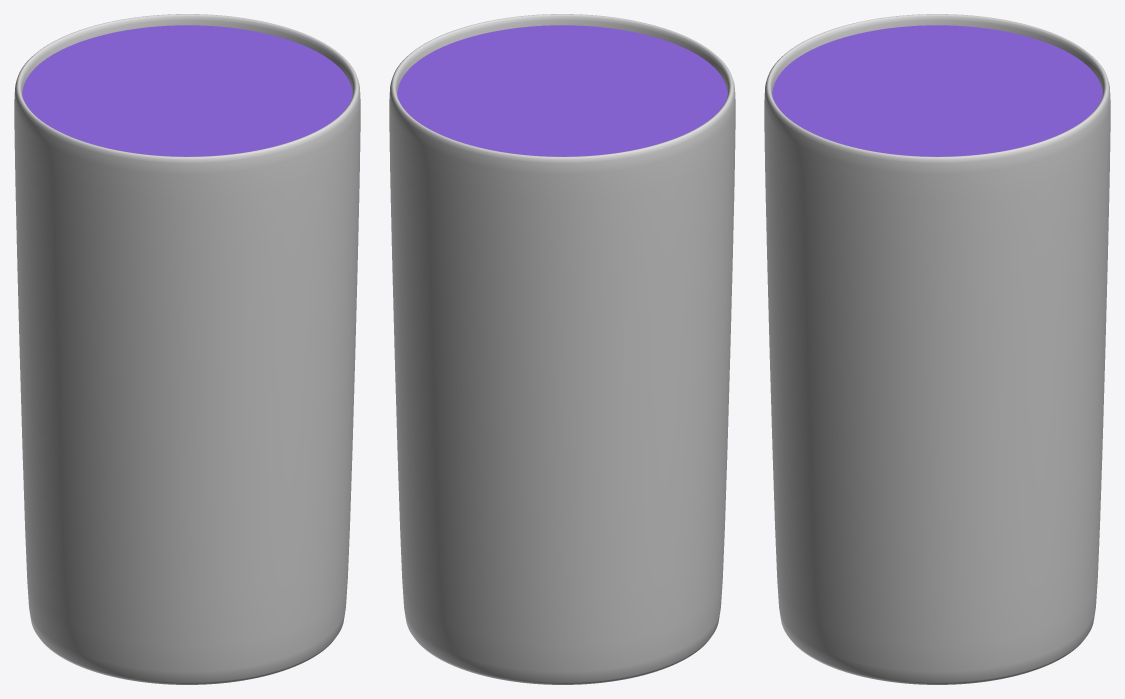
The model's file is Bebida_morada.fbx.
3 views of the same model, side by side, from view 1: azimuth 30°, elevation 25°; view 2: azimuth 150°, elevation 25°; view 3: azimuth 270°, elevation 25° (orthographic).
Visible parts, largest first — view 1: vaso, Círculo; view 2: vaso, Círculo; view 3: vaso, Círculo.
Boxes of the visible parts, x1=… form: vaso: x1=14, y1=14, x2=360, y2=684; Círculo: x1=22, y1=25, x2=352, y2=156; vaso: x1=389, y1=14, x2=735, y2=684; Círculo: x1=397, y1=25, x2=727, y2=156; vaso: x1=764, y1=14, x2=1110, y2=684; Círculo: x1=772, y1=25, x2=1102, y2=156.
Bounding box in the file's own units: 216 × 369 × 216.
